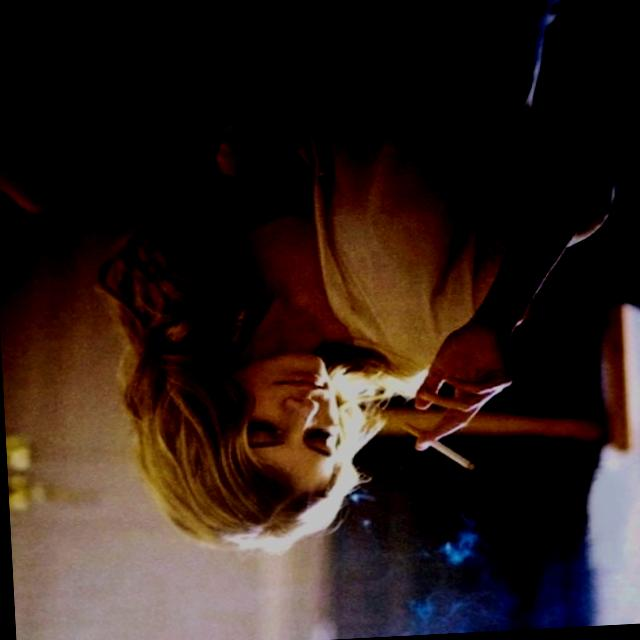cigarette: (396, 414, 472, 478)
